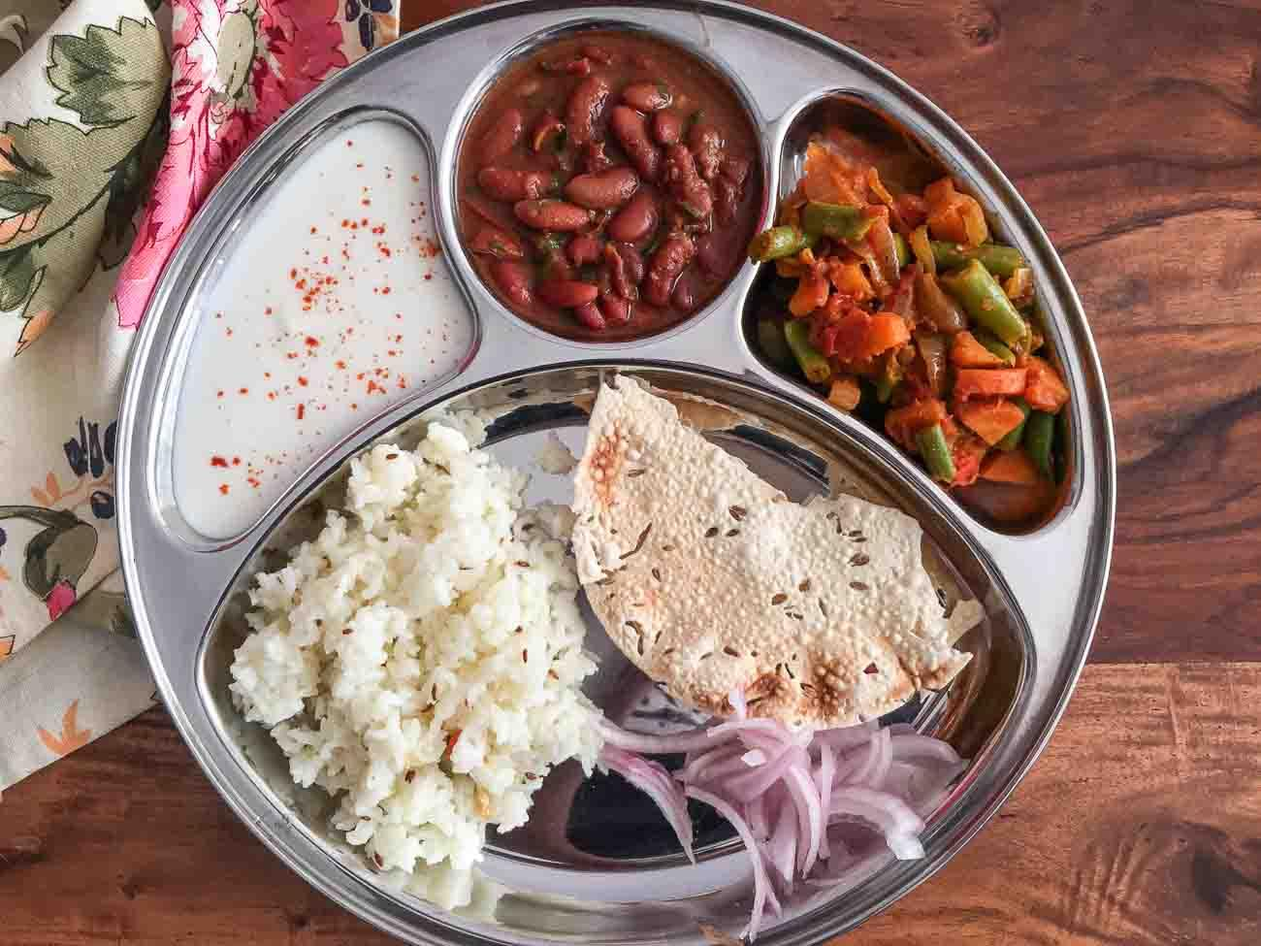rajma: (466, 53, 723, 313)
rice: (238, 519, 584, 859)
